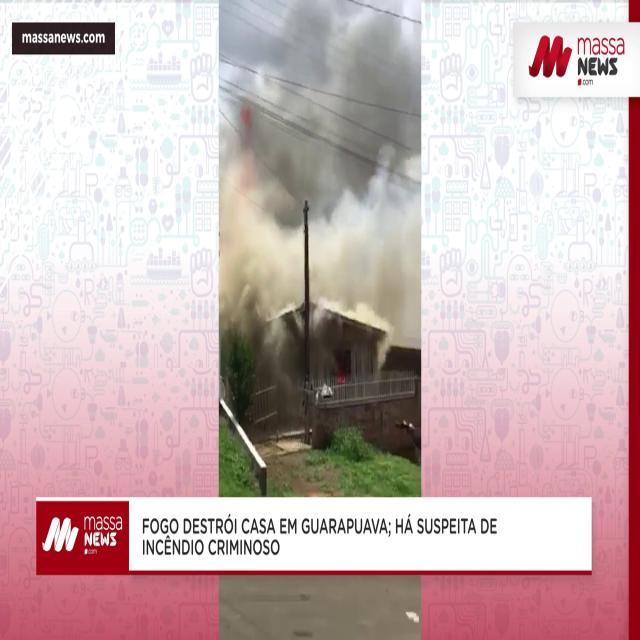Fire: (336, 374, 349, 388)
Smoke: (224, 5, 417, 362)
